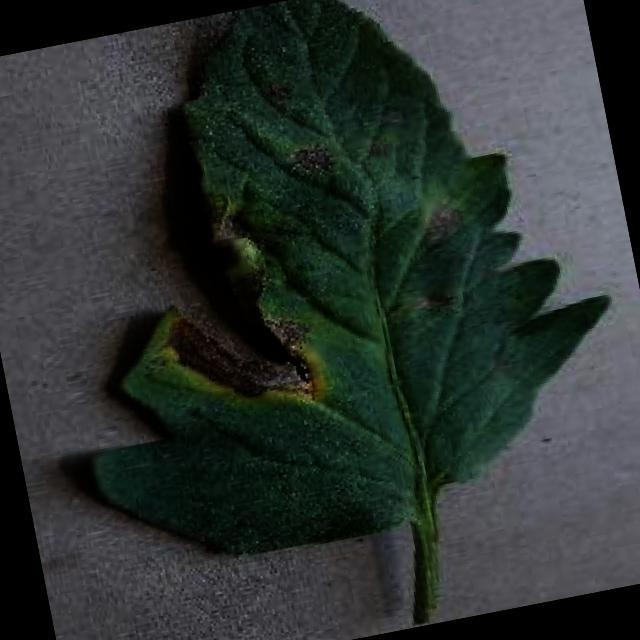Tomato Early blight leaf: (10, 0, 640, 583)
